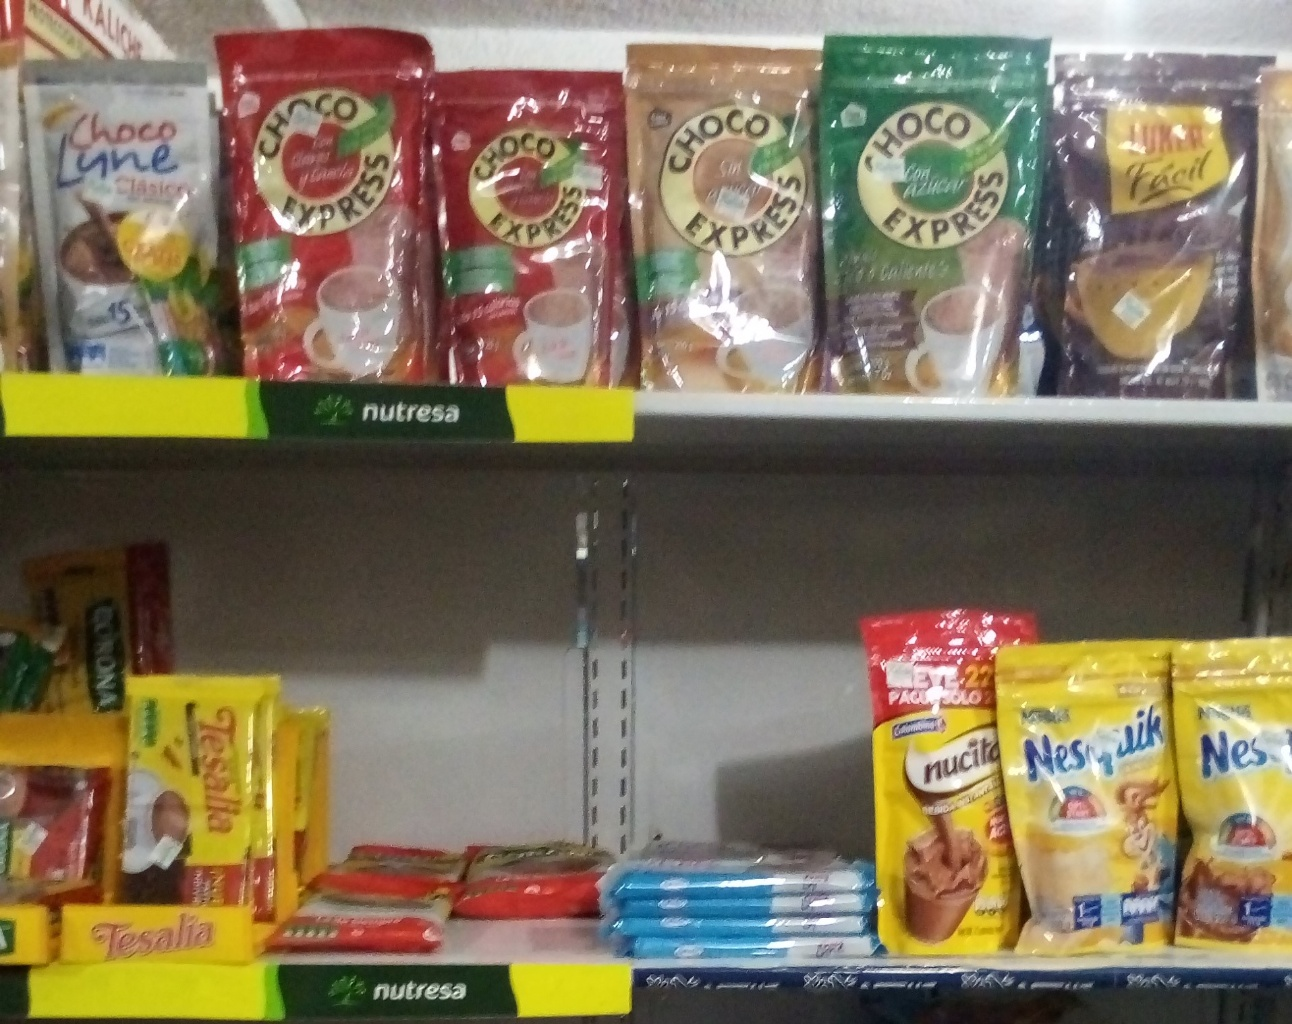COL0170303DYP20000: (1176, 638, 1292, 950)
COL0170306DYP20000: (995, 638, 1178, 948)
